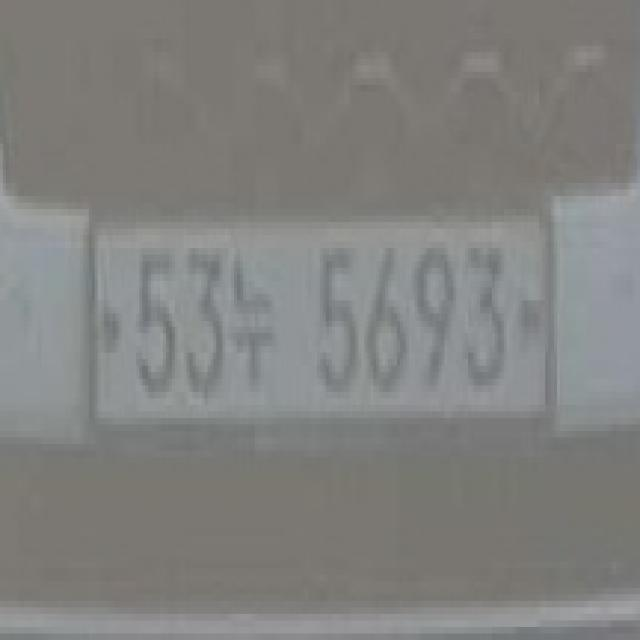3: (181, 248, 228, 405), (468, 235, 513, 398)
5: (311, 235, 362, 405), (127, 248, 178, 398)
6: (361, 248, 412, 412)
9: (412, 248, 459, 405)
license_plate: (89, 209, 563, 451)
nu: (228, 242, 279, 392)
